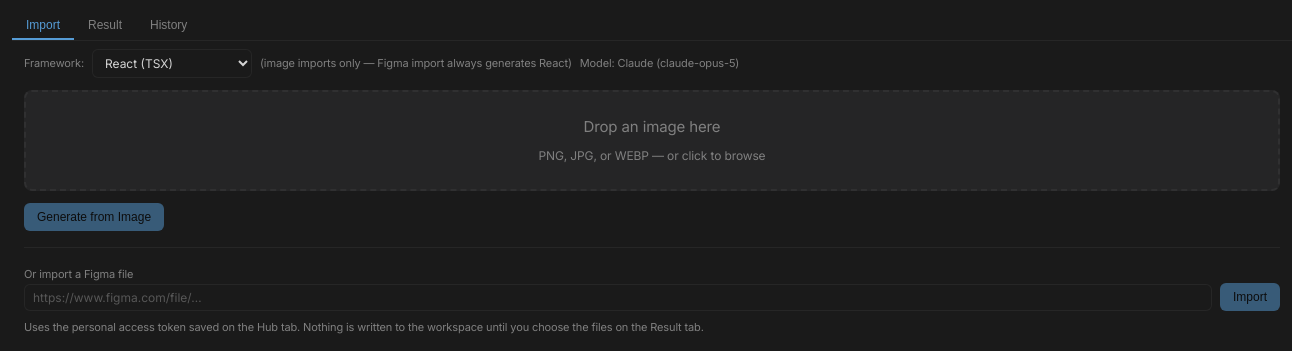
DesignImportPanel — history › 6. an unreadable history is reported as unreadable, not as empty
Click the tab "History".
click(169, 26)  # box [136,12,201,40]
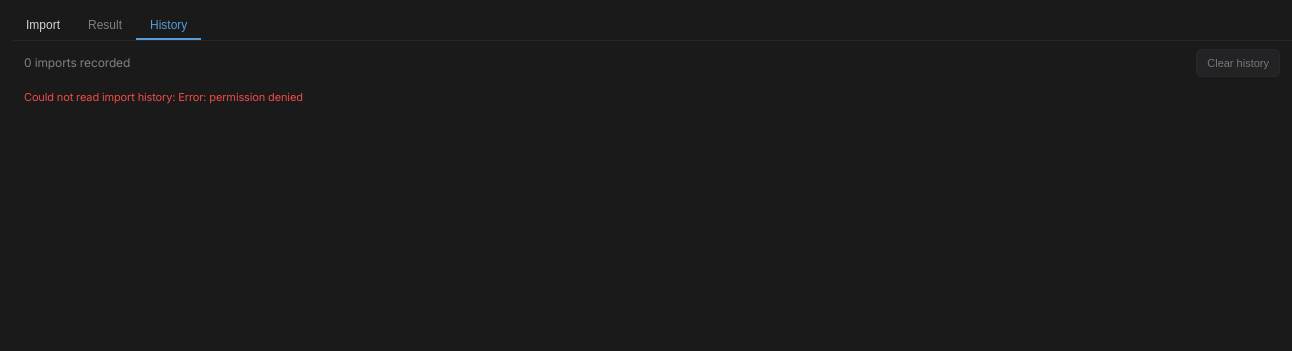
Check: the message shows "Could not read import history", box [24,90,178,104]
